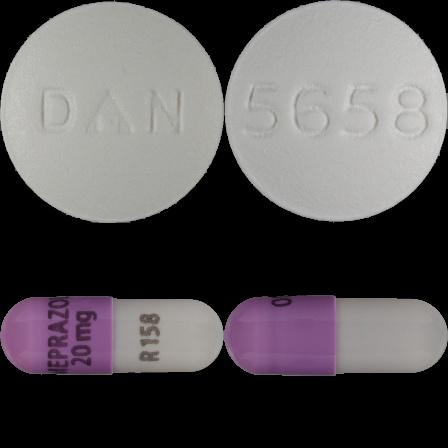69176-300: (0, 0, 224, 224)
